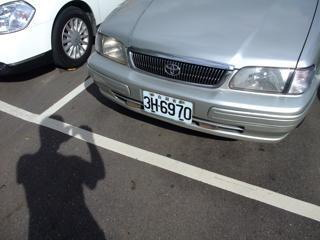plate: (140, 86, 194, 126)
